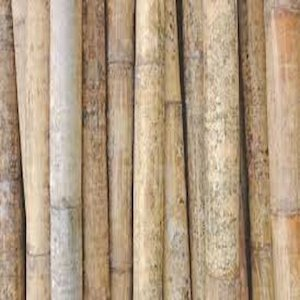combustible: (38, 13, 269, 278)
